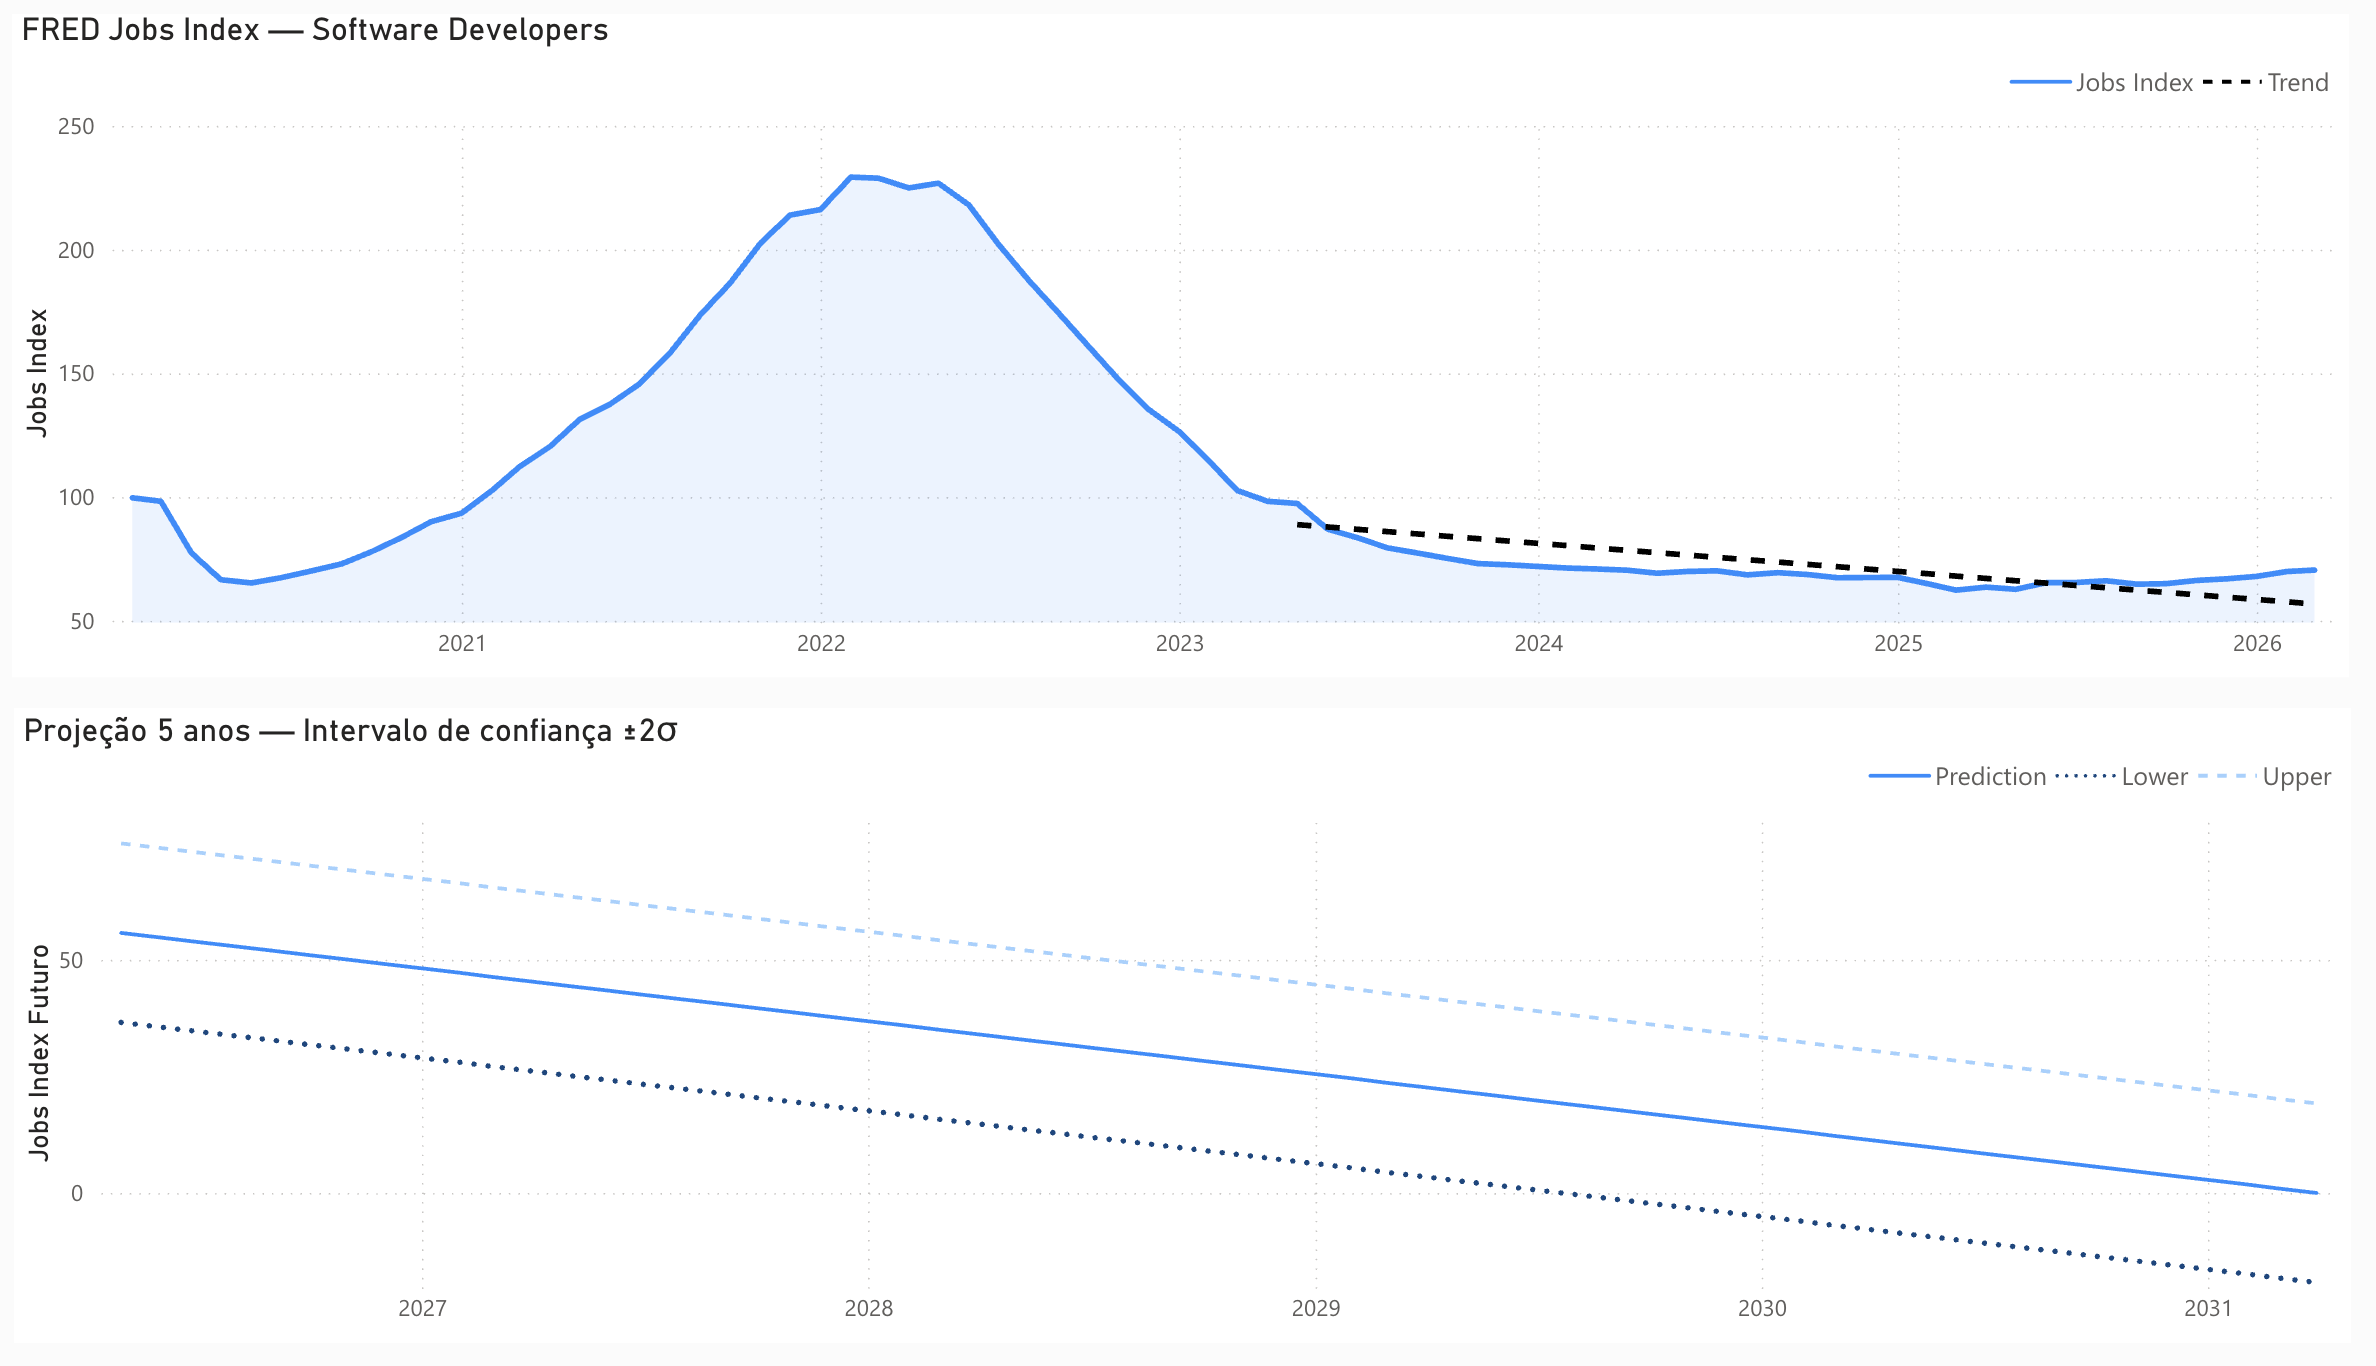

This screenshot's page, from the dashboard's own definition file:
{"tool":"powerbi","page":{"name":"Mercado de Trabalho","canvas":[1280,720],"ordinal":0},"visuals":[{"type":"lineChart","title":"FRED Jobs Index — Software Developers","fields":{"Y":["Sum(fred_clean.jobs_index)","Sum(fred_trend.jobs_index_trend)"],"Category":["fred_clean.date.Variation.Date Hierarchy.Year","fred_clean.date.Variation.Date Hierarchy.Quarter","fred_clean.date.Variation.Date Hierarchy.Month","fred_clean.date.Variation.Date Hierarchy.Day"]},"box":[23.2,10.4,1232.9,349.9],"z":0},{"type":"areaChart","title":"Projeção 5 anos — Intervalo de confiança ±2σ","fields":{"Category":["fred_forecast.date.Variation.Date Hierarchy.Year"],"Y":["Sum(fred_forecast.prediction)","Sum(fred_forecast.lower)","Sum(fred_forecast.upper)"]},"box":[24.3,376.6,1232.9,334.9],"z":1000}]}

Visuals, with their boxes in screenshot pixels (x1, y1, x2, y2), scaled from the page's 1280x720 canvas onto the 2376x1366 screenshot:
"FRED Jobs Index — Software Developers" lineChart: [x1=43, y1=20, x2=2332, y2=684]
"Projeção 5 anos — Intervalo de confiança ±2σ" areaChart: [x1=45, y1=714, x2=2334, y2=1350]
